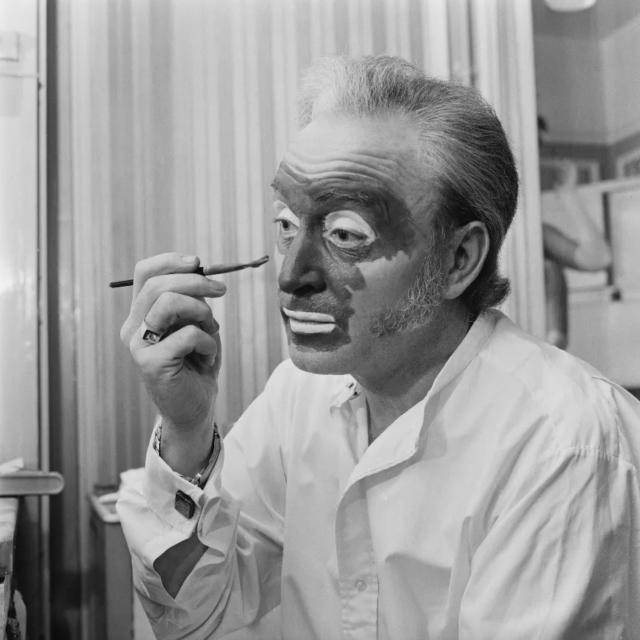sem_oculos: (256, 177, 492, 265)
